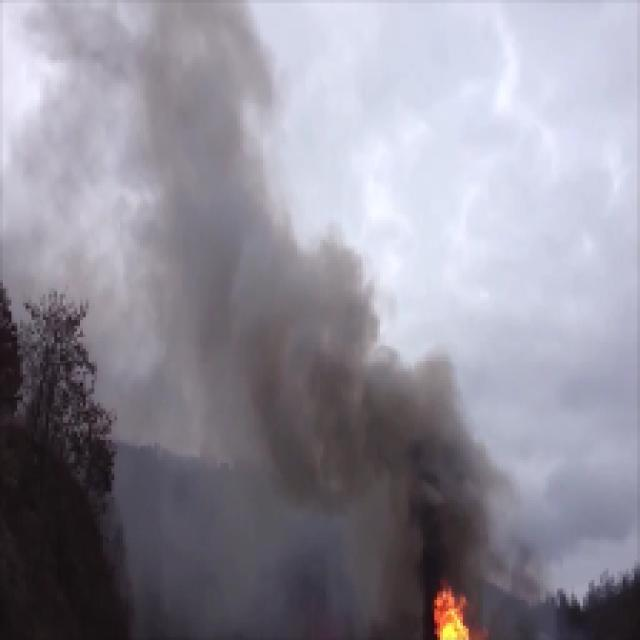Smoke: (18, 1, 272, 347), (283, 230, 416, 552), (420, 343, 502, 562)
